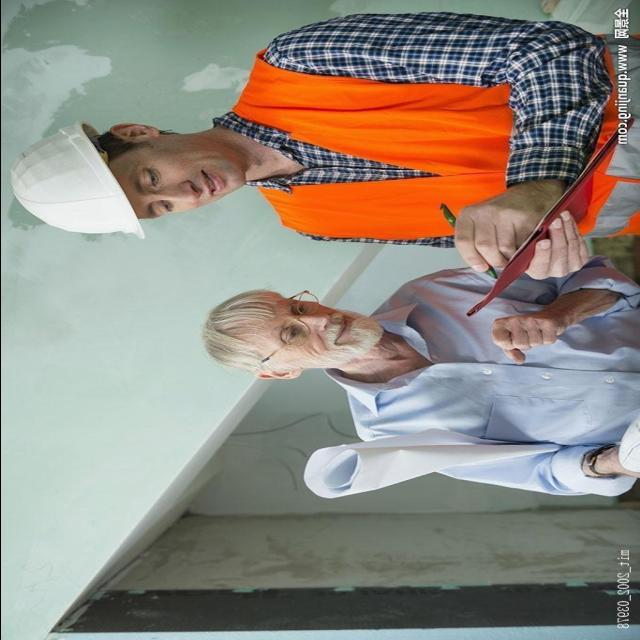helmet: (0, 111, 144, 246)
jacket: (226, 42, 640, 244)
